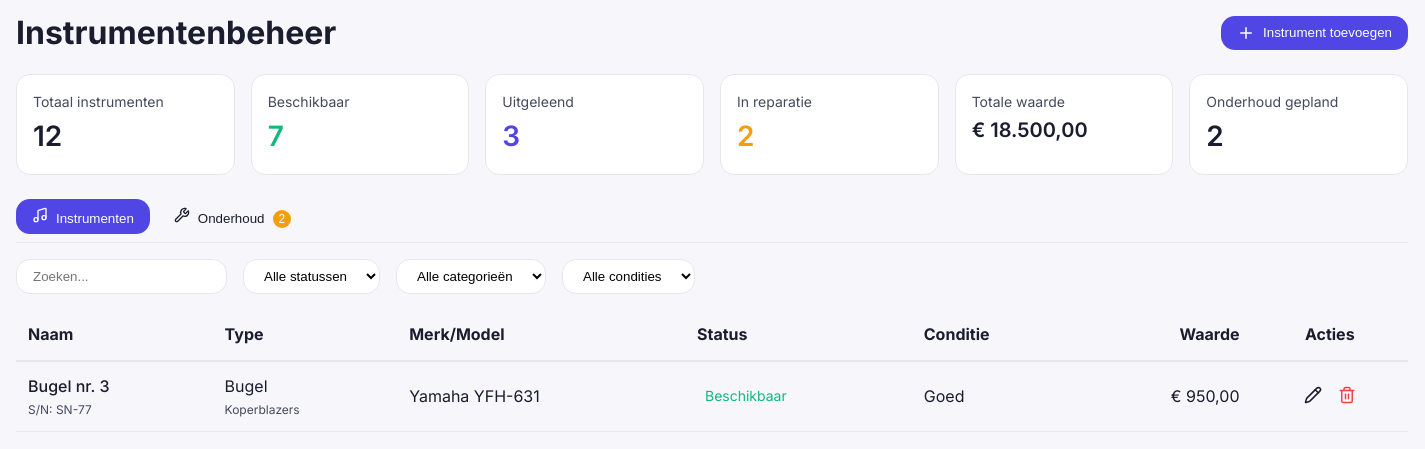
Test: instrumenten - het onderhoudstabblad › meldt het als er niets te doen is
Click the button "Onderhoud2". click: [232, 217]
box: [158,199,307,234]
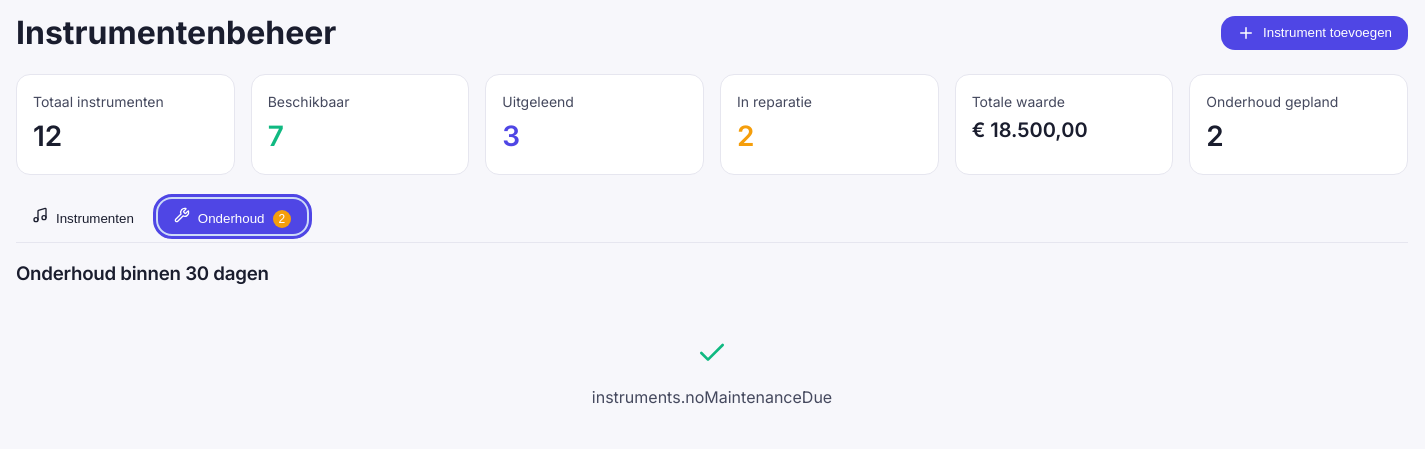
Expected: the text "instruments.noMaintenanceDue" is shown, [592,387,832,407]
